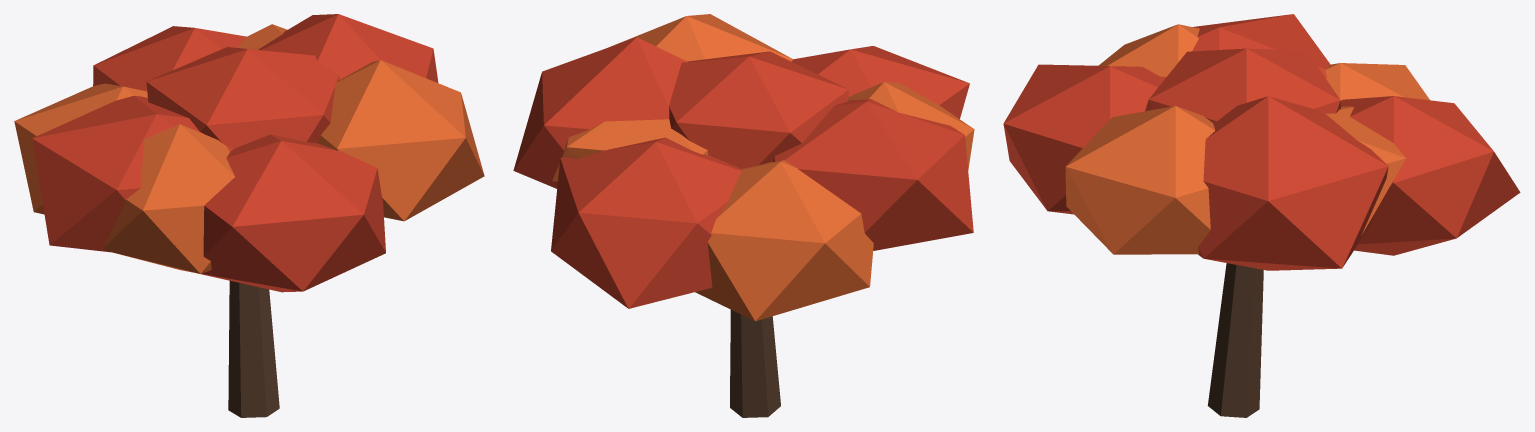
Rendered from Maple1.fbx.
3 renders of one model, left to right at view 1: azimuth 30°, elevation 25°; view 2: azimuth 150°, elevation 25°; view 3: azimuth 270°, elevation 25°, orthographic.
Visible parts, largest first — view 1: Maple1_Roof_maple, Maple1_Roof_maple_lt, Maple1_bark; view 2: Maple1_Roof_maple, Maple1_Roof_maple_lt, Maple1_bark; view 3: Maple1_Roof_maple, Maple1_Roof_maple_lt, Maple1_bark.
Part boxes in pixels (x1=…): Maple1_Roof_maple: x1=32, y1=14, x2=438, y2=292; Maple1_Roof_maple_lt: x1=14, y1=24, x2=484, y2=273; Maple1_bark: x1=228, y1=281, x2=279, y2=417; Maple1_Roof_maple: x1=513, y1=37, x2=973, y2=308; Maple1_Roof_maple_lt: x1=552, y1=14, x2=974, y2=321; Maple1_bark: x1=730, y1=310, x2=780, y2=417; Maple1_Roof_maple: x1=1003, y1=14, x2=1520, y2=270; Maple1_Roof_maple_lt: x1=1065, y1=24, x2=1429, y2=254; Maple1_bark: x1=1207, y1=263, x2=1263, y2=417.
Bounding box in the file's own units: 14.67 × 12.35 × 15.94.
